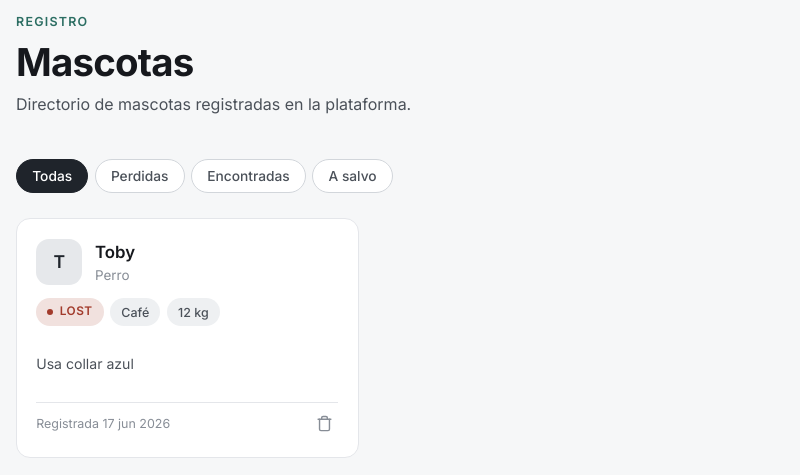
Test: MascotasPage › carga mascotas, filtra por estado y elimina una mascota
This screenshot has width=800, height=475.
Expected: the text "Toby" is shown, [95, 238, 135, 264]
Click the button "Perdidas" at (140, 176), box [95, 159, 185, 193]
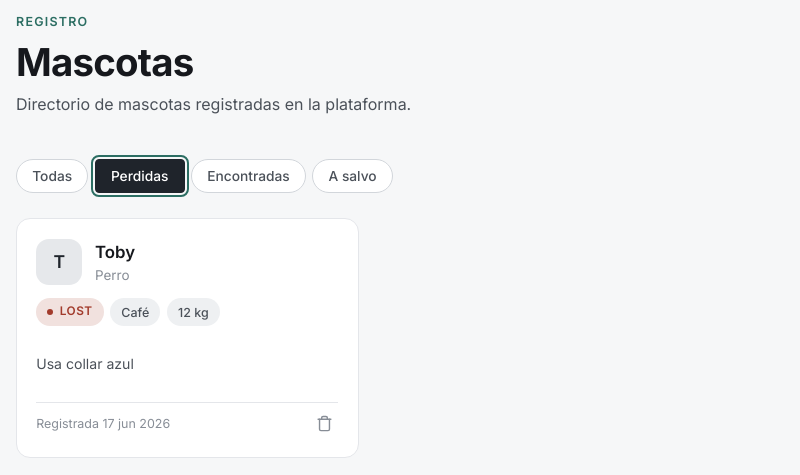
Click the button named "Eliminar Toby" at (324, 424), box [310, 409, 338, 438]
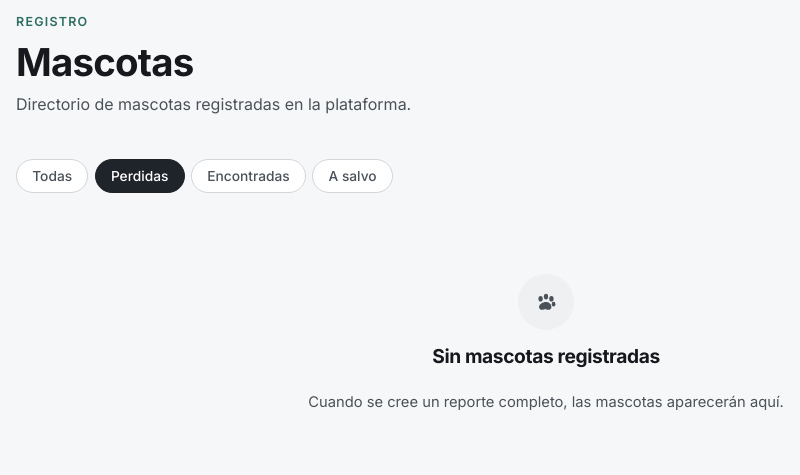
Result: the heading "Sin mascotas registradas" is shown at [432, 345, 660, 367]
